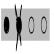correct: (3, 15, 10, 35)
not correct: (14, 2, 23, 52)
